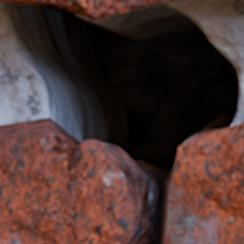brick: (7, 0, 174, 19)
broken_brick: (0, 118, 132, 243), (166, 121, 243, 243)
crack: (0, 0, 242, 243)
